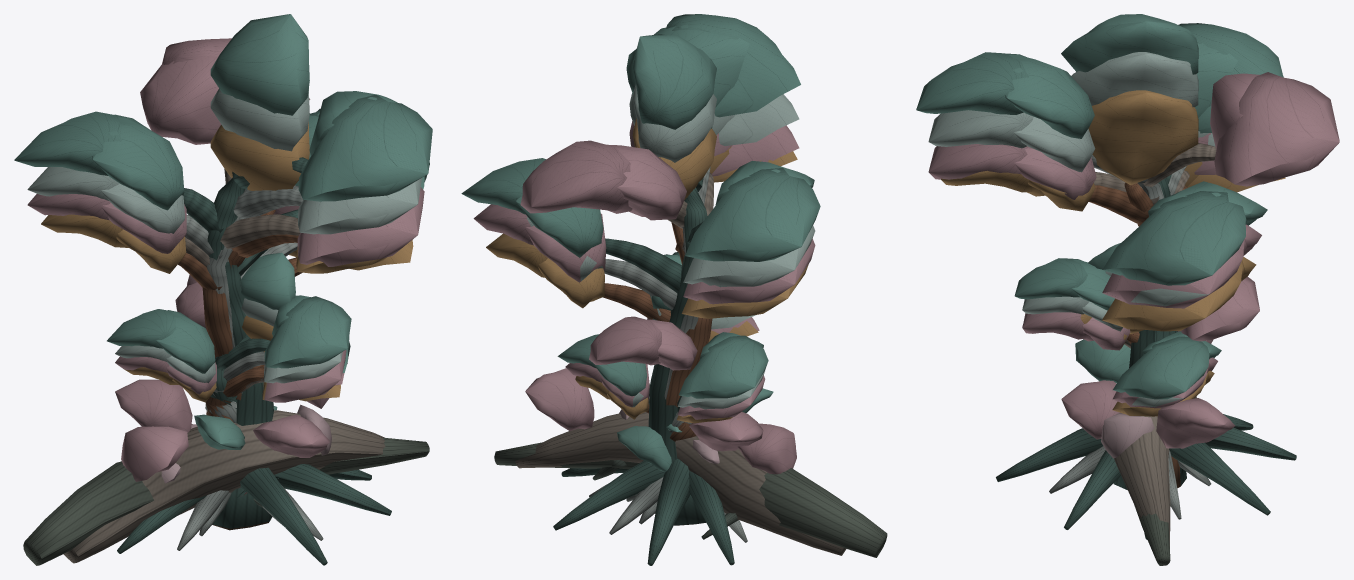
File: listening-flora.glb
3 renders of one model, left to right at view 1: azimuth 30°, elevation 25°; view 2: azimuth 150°, elevation 25°; view 3: azimuth 270°, elevation 25°, orthographic. The views are drawn at different scales.
Visible parts, largest first — view 1: GEO-veil_crown-mantle, GEO-pale_crown-mantle, GEO-aurora_crown-mantle, GEO-veil_fork-mantle, GEO-pale_nurse-stem, GEO-pale_nurse-mantle, GEO-ember_crown-mantle, GEO-fallen_root-stem, GEO-veil_crown-stem, GEO-veil_rootbed-stem, GEO-aurora_crown-stem, GEO-pale_fork-mantle (+9 smaller); view 2: GEO-veil_crown-mantle, GEO-pale_crown-mantle, GEO-pale_nurse-stem, GEO-aurora_crown-mantle, GEO-fallen_root-stem, GEO-pale_nurse-mantle, GEO-ember_crown-mantle, GEO-veil_rootbed-stem, GEO-veil_fork-mantle, GEO-pale_fork-mantle, GEO-veil_crown-stem, GEO-aurora_crown-stem (+5 smaller); view 3: GEO-veil_crown-mantle, GEO-pale_crown-mantle, GEO-ember_crown-mantle, GEO-aurora_crown-mantle, GEO-veil_fork-mantle, GEO-veil_rootbed-stem, GEO-pale_fork-mantle, GEO-pale_nurse-mantle, GEO-pale_nurse-stem, GEO-aurora_crown-stem, GEO-ember_crown-stem, GEO-aurora_fork-mantle (+6 smaller).
Boxes of the visible parts, box(x1,y1,x2,y2) form: GEO-veil_crown-mantle: box(14, 14, 432, 210); GEO-pale_crown-mantle: box(27, 38, 424, 266); GEO-aurora_crown-mantle: box(27, 88, 421, 234); GEO-veil_fork-mantle: box(107, 252, 351, 373); GEO-pale_nurse-stem: box(63, 410, 385, 563); GEO-pale_nurse-mantle: box(115, 357, 348, 481); GEO-ember_crown-mantle: box(41, 122, 413, 273); GEO-fallen_root-stem: box(23, 437, 429, 565); GEO-veil_crown-stem: box(183, 157, 308, 530); GEO-veil_rootbed-stem: box(117, 464, 391, 565); GEO-aurora_crown-stem: box(177, 185, 323, 550); GEO-pale_fork-mantle: box(115, 275, 346, 402); GEO-veil_crown-mantle: box(461, 14, 820, 261); GEO-pale_crown-mantle: box(473, 121, 815, 304); GEO-pale_nurse-stem: box(515, 412, 846, 555); GEO-aurora_crown-mantle: box(527, 83, 815, 287); GEO-fallen_root-stem: box(494, 442, 887, 557); GEO-pale_nurse-mantle: box(525, 368, 796, 474); GEO-ember_crown-mantle: box(486, 118, 808, 318); GEO-veil_rootbed-stem: box(553, 458, 734, 565); GEO-veil_fork-mantle: box(557, 252, 768, 398); GEO-pale_fork-mantle: box(565, 316, 765, 419); GEO-veil_crown-stem: box(605, 126, 712, 525); GEO-aurora_crown-stem: box(589, 166, 747, 542); GEO-veil_crown-mantle: box(916, 14, 1283, 285); GEO-pale_crown-mantle: box(928, 72, 1339, 308); GEO-ember_crown-mantle: box(941, 90, 1285, 331); GEO-aurora_crown-mantle: box(928, 52, 1215, 306); GEO-veil_fork-mantle: box(1014, 243, 1221, 399); GEO-veil_rootbed-stem: box(996, 414, 1296, 539); GEO-pale_fork-mantle: box(1022, 276, 1259, 408); GEO-pale_nurse-mantle: box(1061, 339, 1235, 448); GEO-pale_nurse-stem: box(1114, 396, 1196, 547); GEO-aurora_crown-stem: box(1049, 155, 1186, 519); GEO-ember_crown-stem: box(1088, 182, 1187, 488); GEO-aurora_fork-mantle: box(1022, 271, 1183, 407).
Bounding box in the file's own units: 9.41 × 10.7 × 8.36.
2 materials, 2 textured.
